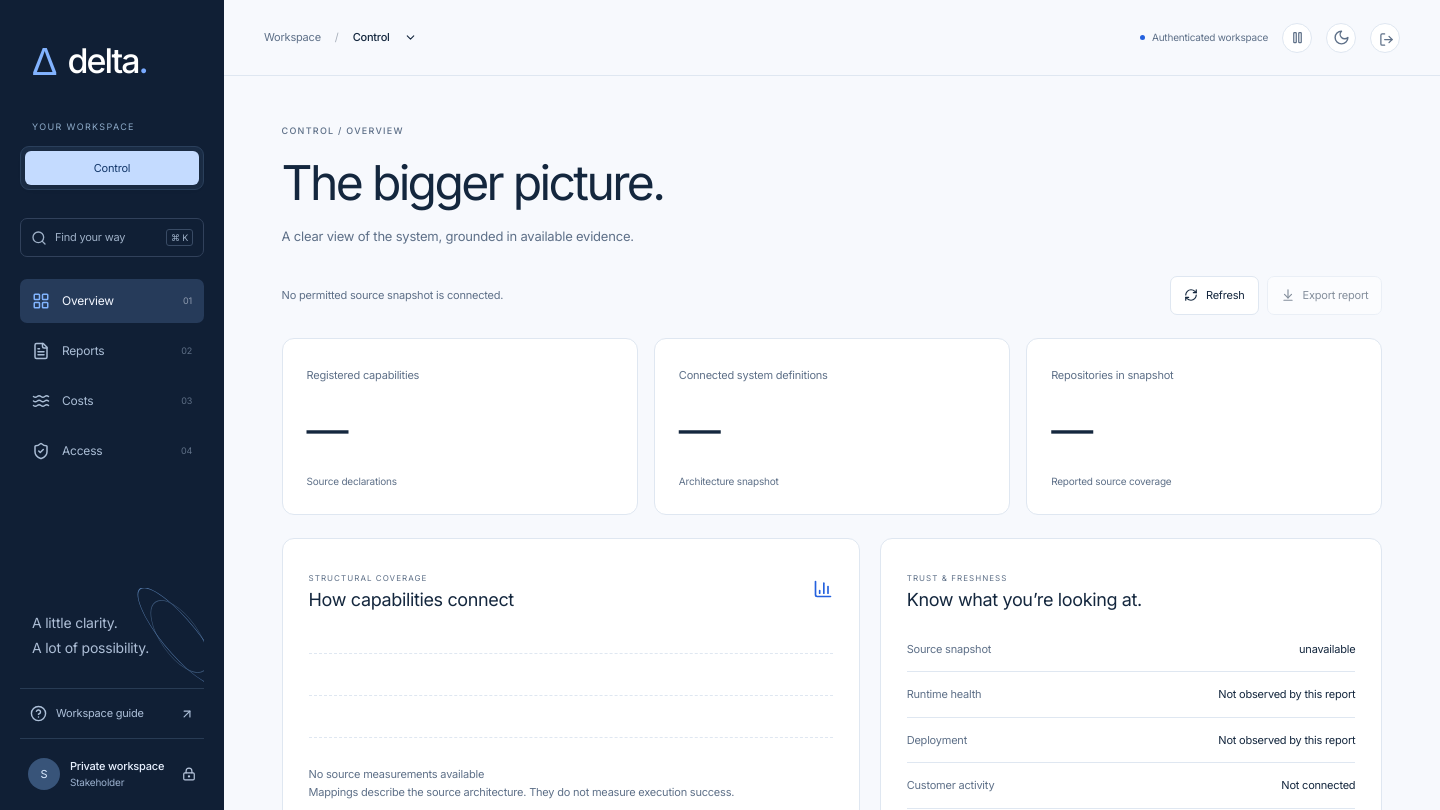
Test: gives stakeholders only permitted summary reads and no owner components
Expected: the text "No permitted source snapshot is connected." is shown, [282,287,503,304]
Click the button "Costs 03": (112, 401) [20,379,204,423]
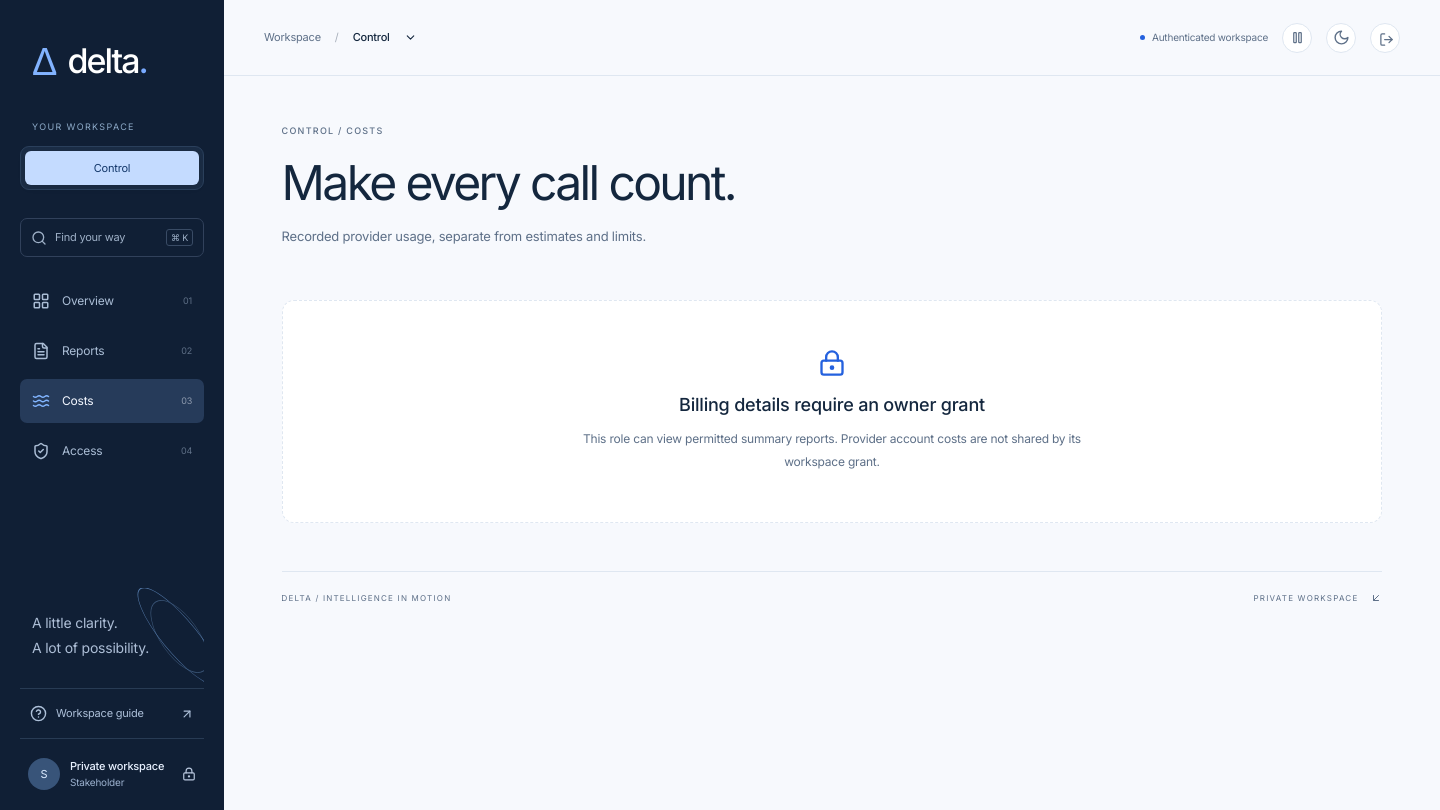
Result: the heading "Billing details require an owner grant" is shown at [679,394,985,415]
